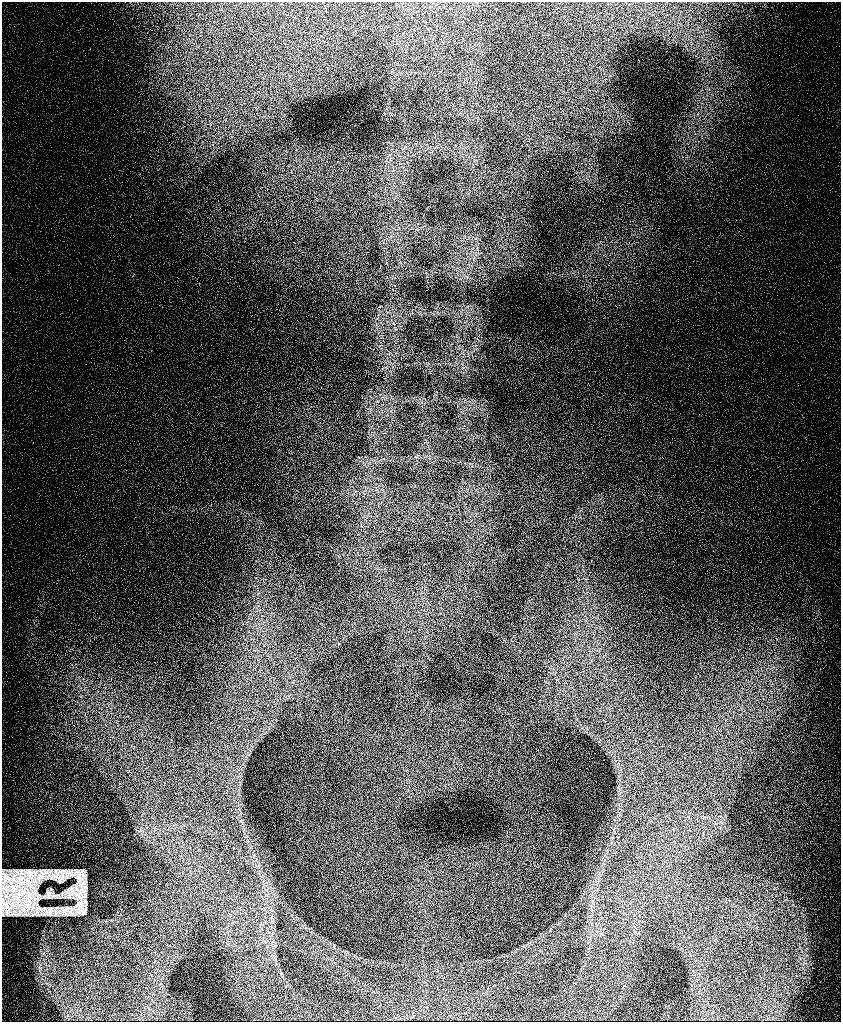lumbar scoliosis: (338, 72, 505, 572)
